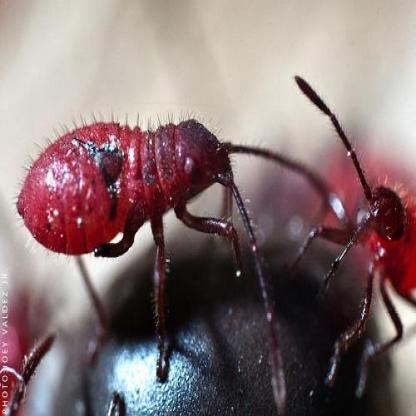aphid: (17, 105, 311, 362), (295, 69, 416, 404)
